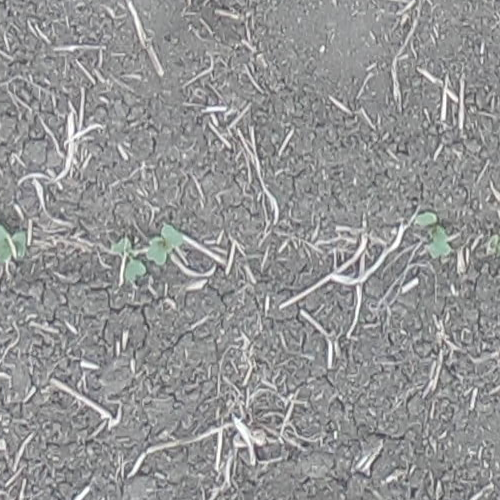clumped: (108, 223, 188, 281)
isolated: (411, 209, 453, 258), (0, 221, 26, 266), (490, 223, 499, 263)
